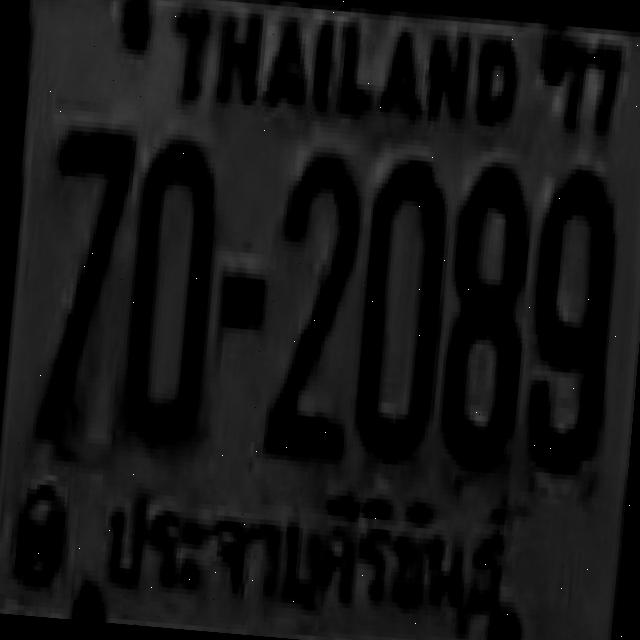0: (115, 130, 218, 442), (348, 152, 448, 456)
2: (259, 148, 362, 460)
7: (29, 120, 133, 442), (40, 121, 132, 340)
8: (434, 156, 532, 466)
9: (518, 160, 620, 472)
PrachuapKhiriKhan: (94, 468, 524, 640)
